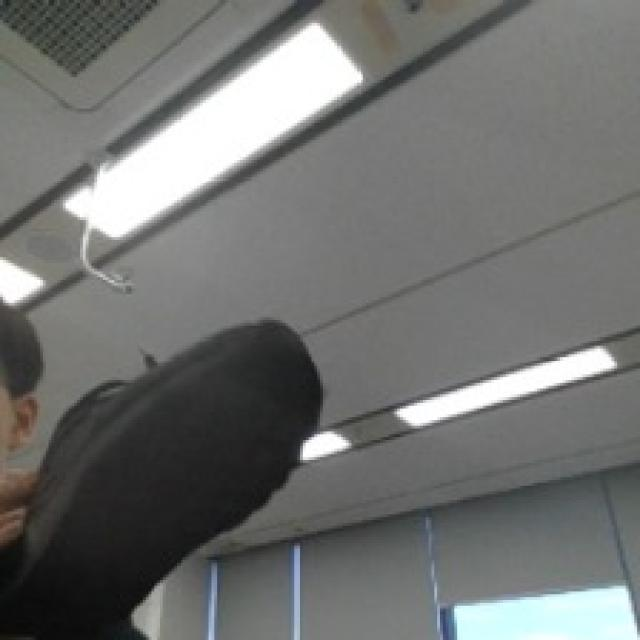shoes: (0, 271, 409, 638)
